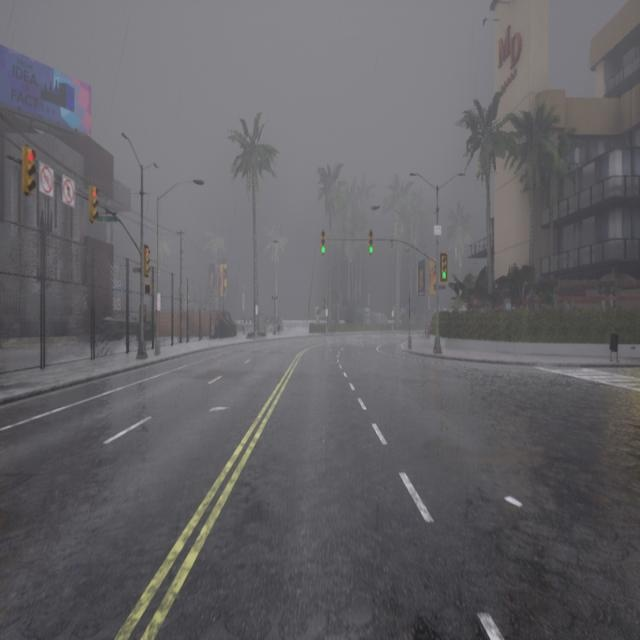bien_chi_dan: (22, 145, 36, 197), (89, 185, 99, 222), (144, 243, 151, 279), (440, 252, 448, 282), (368, 230, 374, 256), (26, 149, 36, 163), (321, 229, 326, 255), (92, 188, 98, 198), (442, 271, 447, 279), (321, 245, 325, 254), (145, 250, 150, 257), (369, 246, 373, 254)
